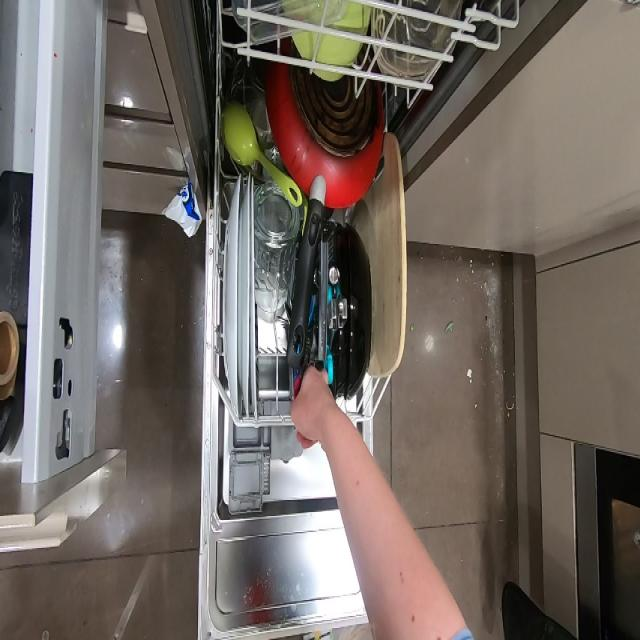dishwasher: (165, 0, 478, 512)
glass: (253, 170, 294, 322)
right hand: (286, 353, 356, 480)
